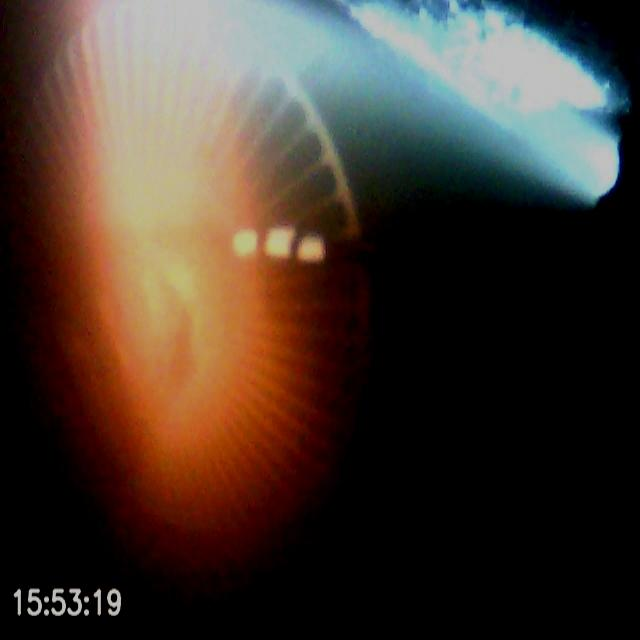white-dots: (230, 222, 330, 267)
